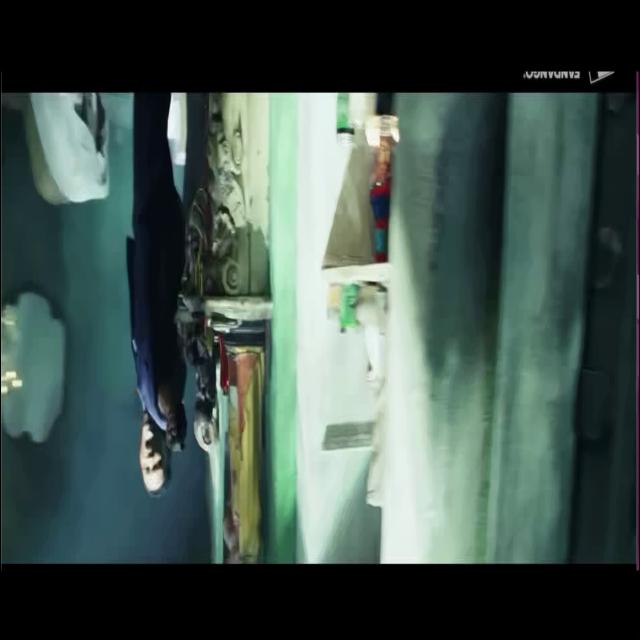weapons: (164, 394, 198, 470)
